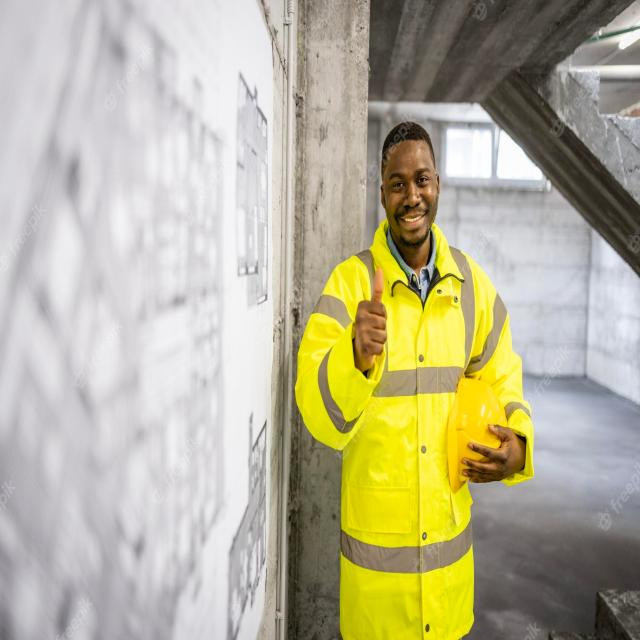helmet: (433, 358, 508, 485)
